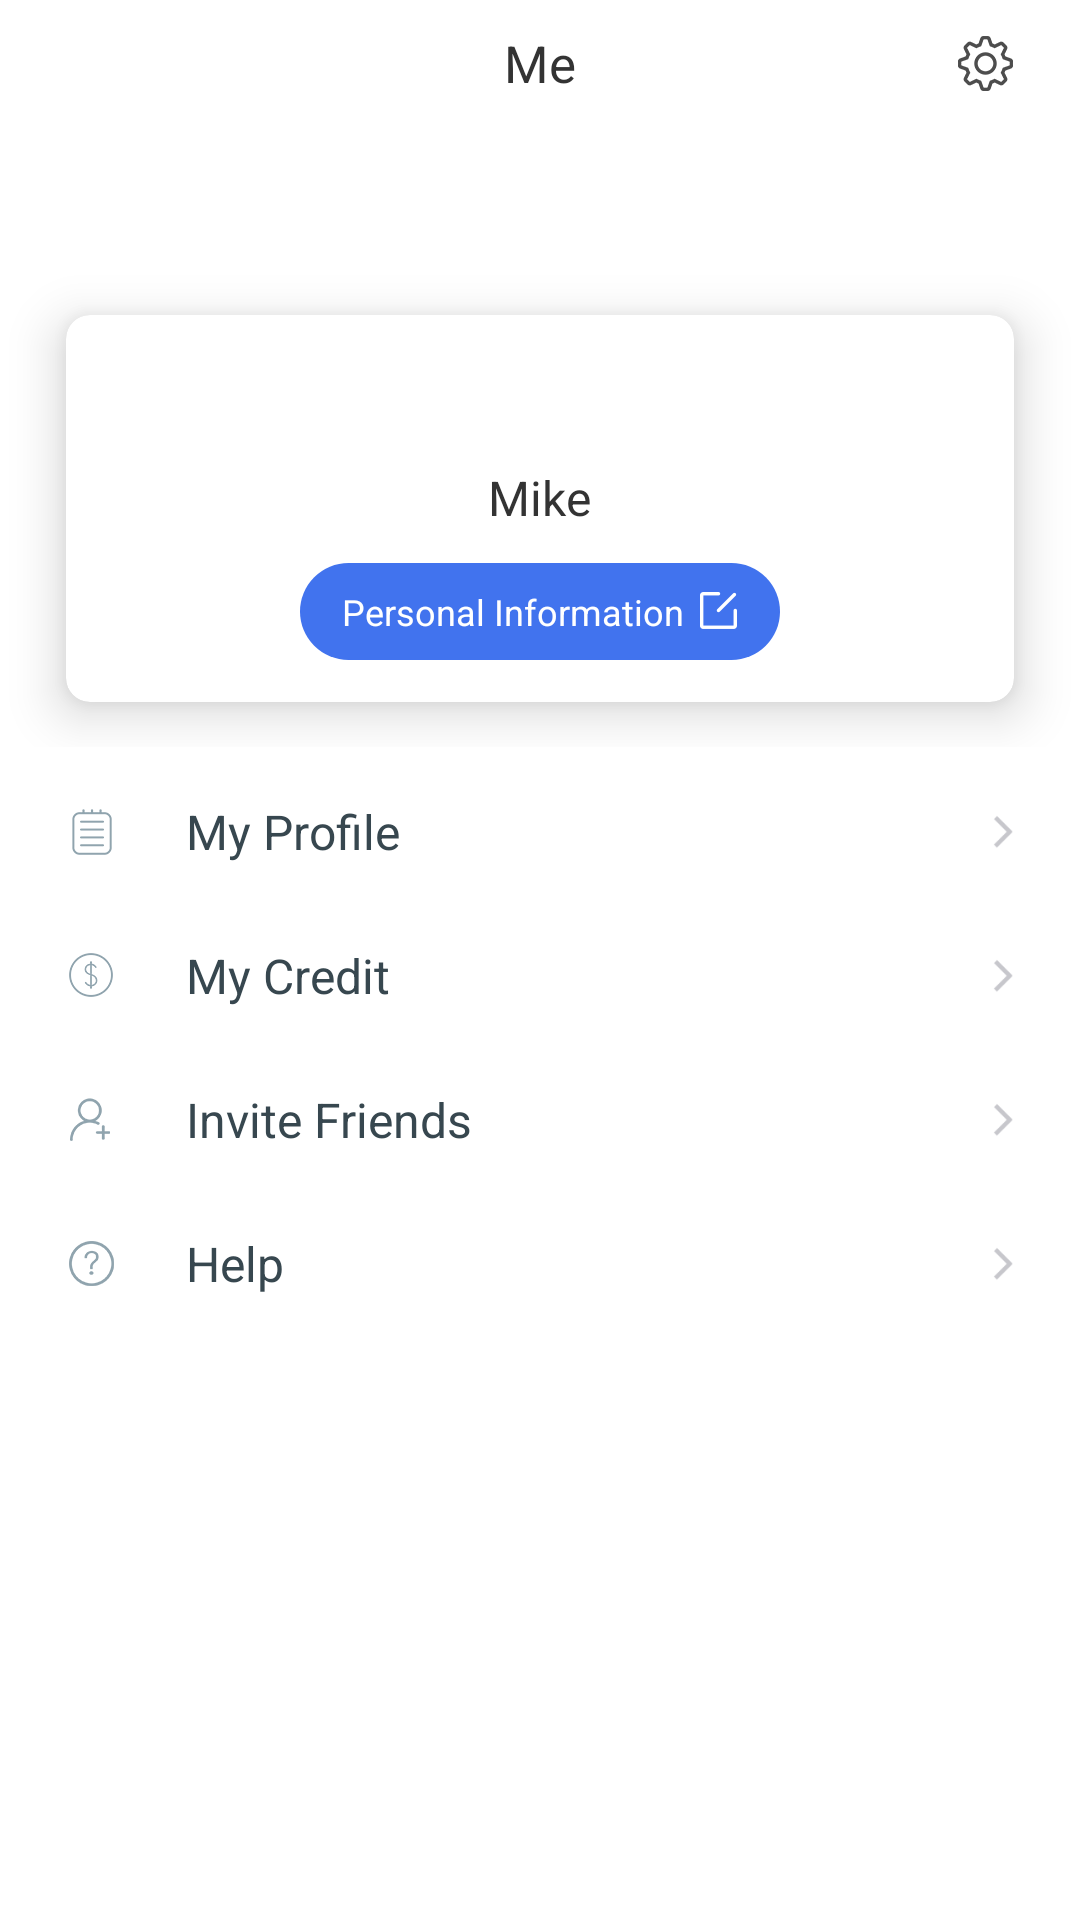

Named icons in this screenshot (1080*1920) and their bounding boxes, (x1, y1, x2, y2):
setting: (958, 36, 1013, 91)
